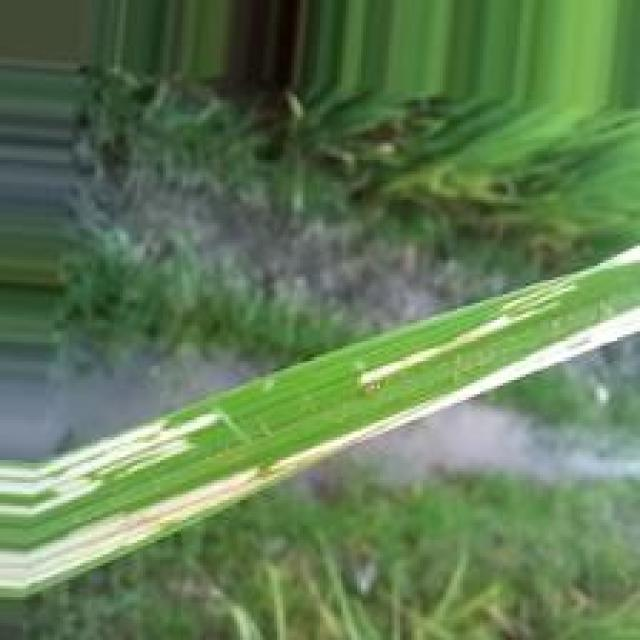Rice_Hispa: (0, 302, 637, 589), (0, 409, 222, 519), (359, 312, 557, 390)
